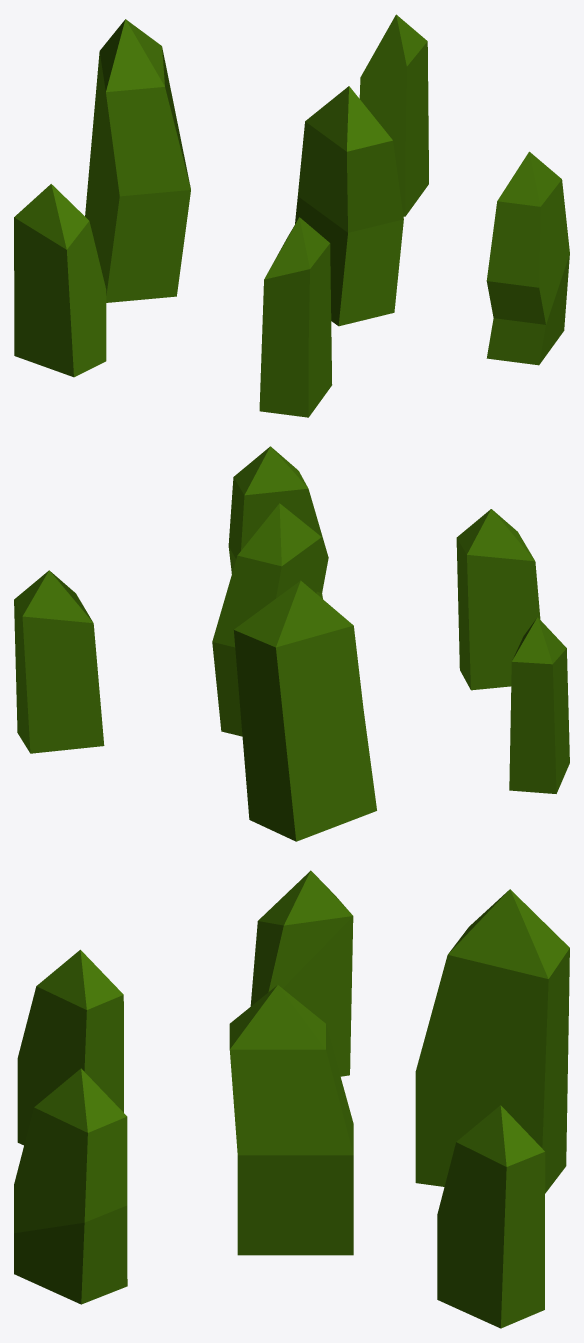
The model's file is grass.fbx.
3 views of the same model, one above another, from view 1: azimuth 30°, elevation 25°; view 2: azimuth 150°, elevation 25°; view 3: azimuth 270°, elevation 25° (orthographic). The views are drawn at different scales.
Parts seen in each view (by area): view 1: Cube_003; view 2: Cube_003; view 3: Cube_003.
Part boxes in pixels (x1,y1,x2,y2): Cube_003: [14, 14, 569, 417]; Cube_003: [14, 446, 569, 841]; Cube_003: [14, 870, 569, 1328].
Size of the model in its own units: 11.44 by 5.58 by 9.76.
